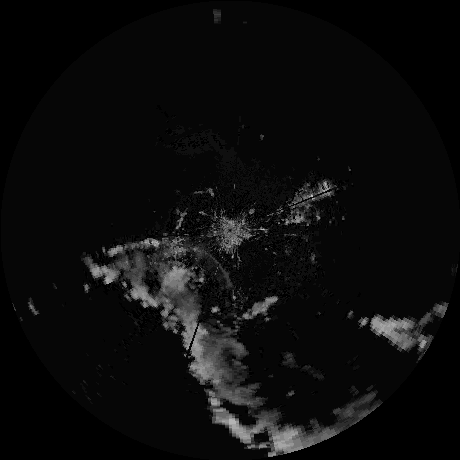frontgust: (192, 245, 234, 293)
